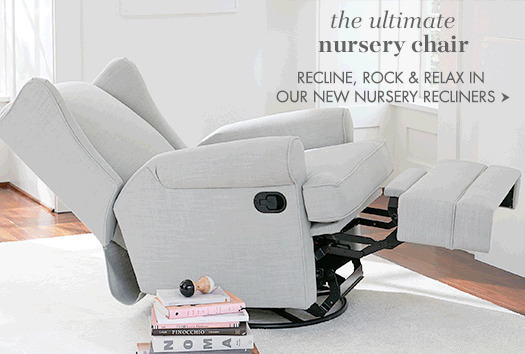chairs: (7, 52, 521, 328)
